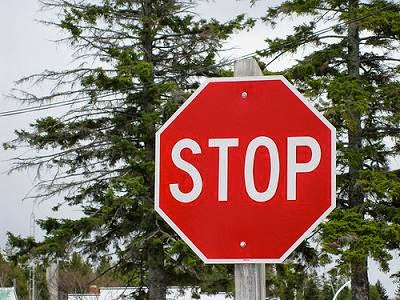stop: (164, 93, 328, 241)
